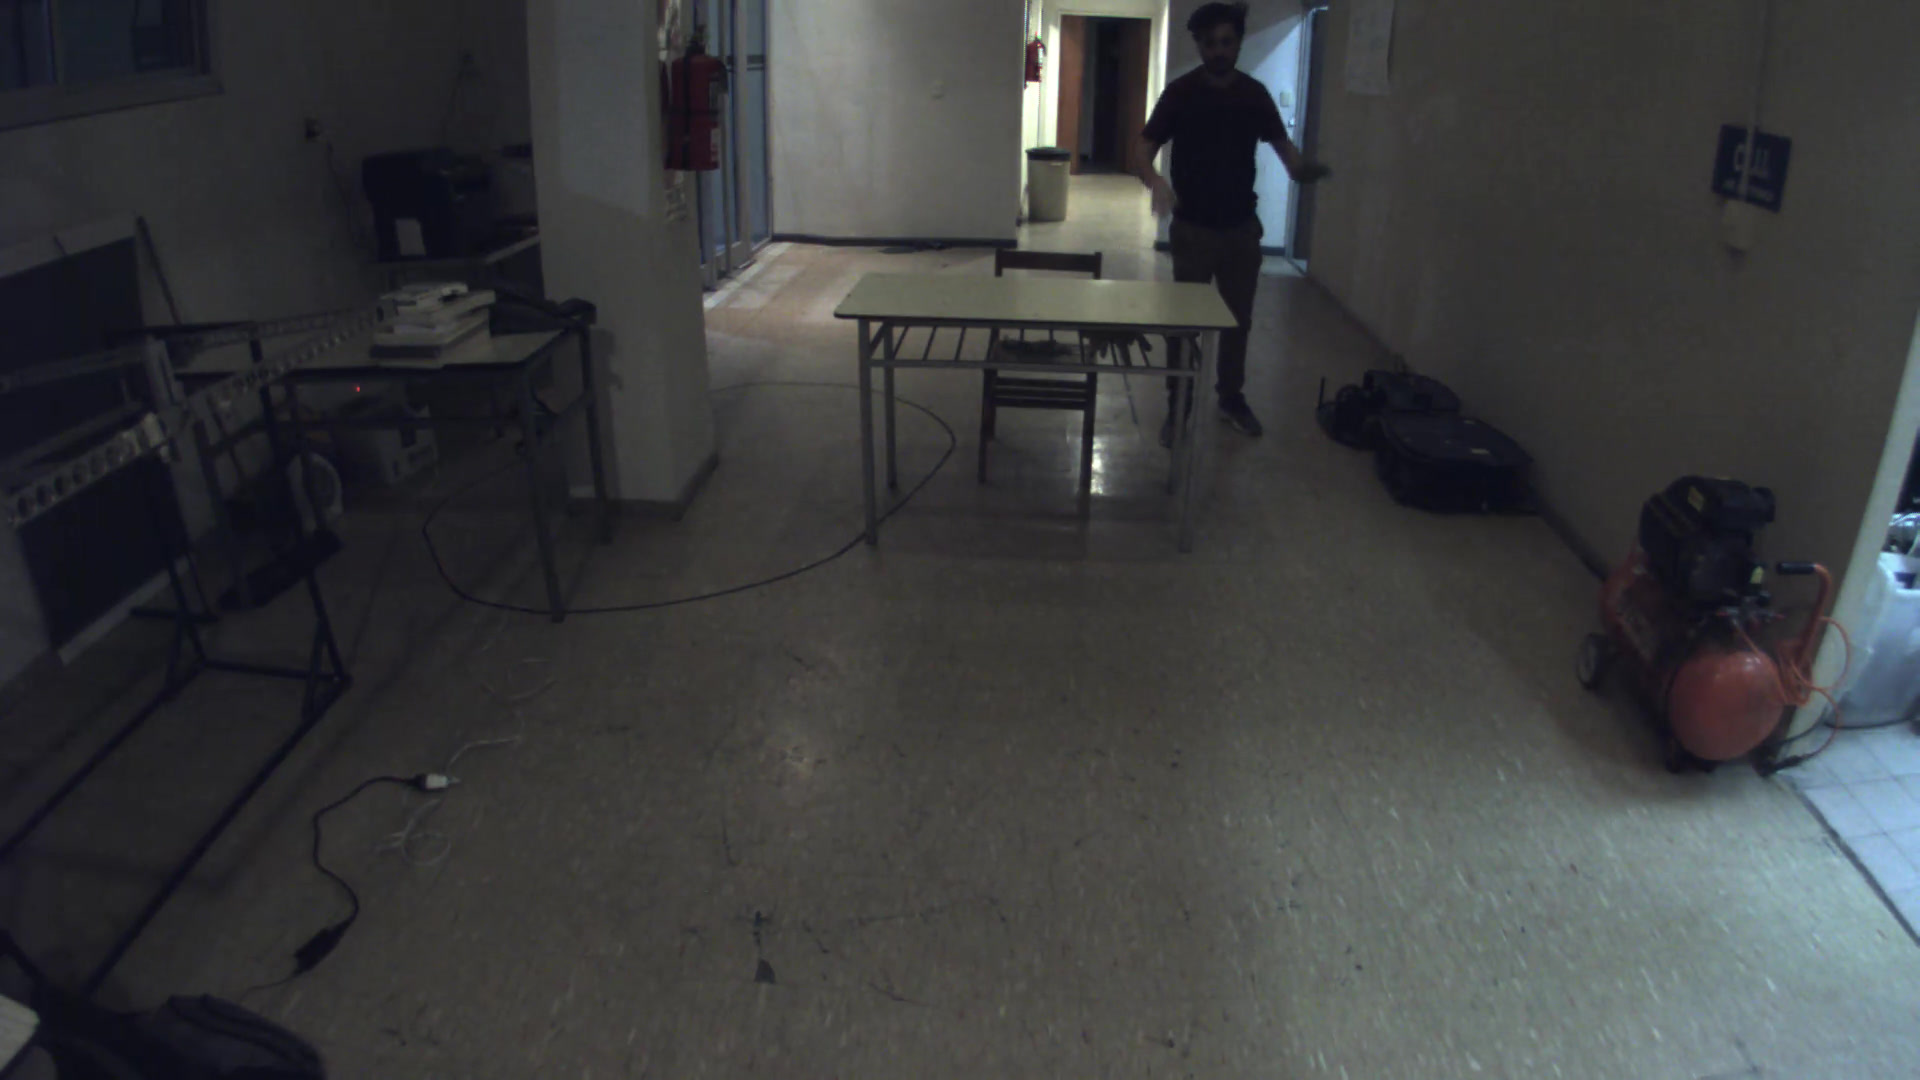hand: (1139, 170, 1192, 225), (1284, 145, 1331, 190)
